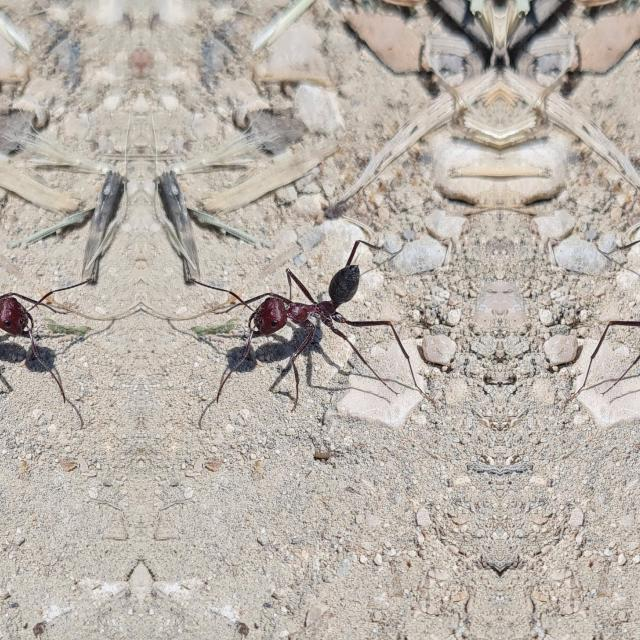Cataglyphis: (232, 234, 376, 384), (0, 234, 46, 384), (146, 566, 154, 580), (126, 566, 134, 580)
